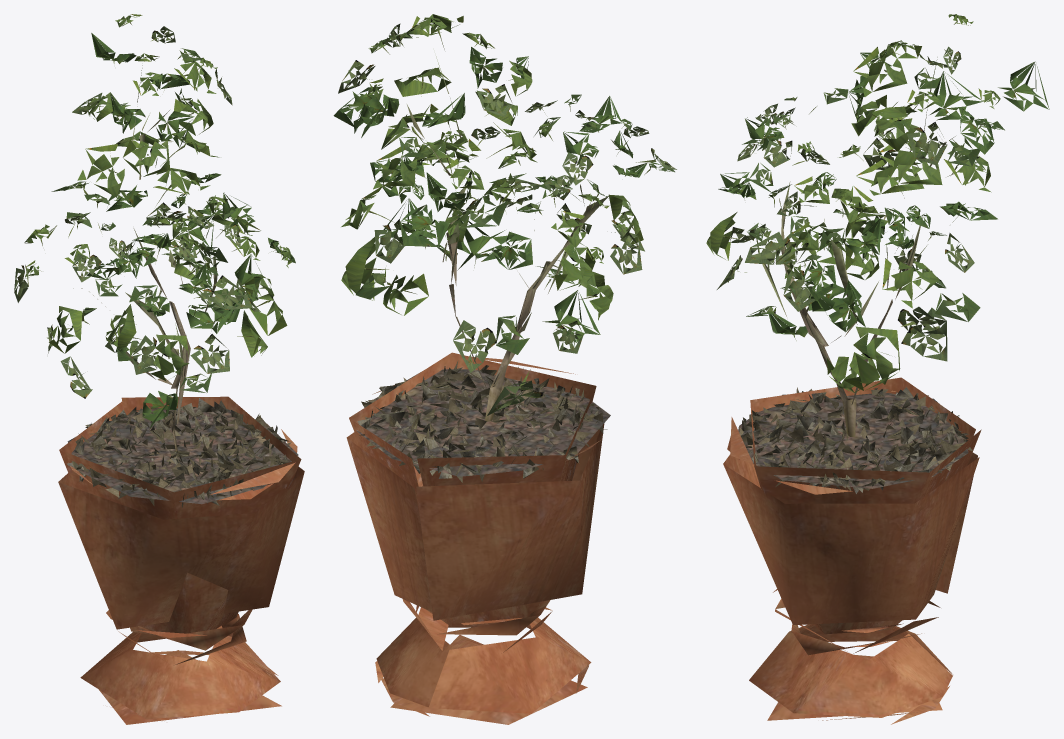
File: ph_potted_plant_01.fbx
3 renders of one model, left to right at view 1: azimuth 30°, elevation 25°; view 2: azimuth 150°, elevation 25°; view 3: azimuth 270°, elevation 25°, orthographic. The views are drawn at different scales.
Visible parts, largest first — view 1: ph_potted_plant_01_LOD0; view 2: ph_potted_plant_01_LOD0; view 3: ph_potted_plant_01_LOD0.
Part boxes in pixels (x1,y1,x2,y2): ph_potted_plant_01_LOD0: [14, 14, 304, 724]; ph_potted_plant_01_LOD0: [333, 14, 676, 724]; ph_potted_plant_01_LOD0: [706, 14, 1049, 724].
Size of what is drawn, in the model's own units: 0.578 by 1.34 by 0.6175.
